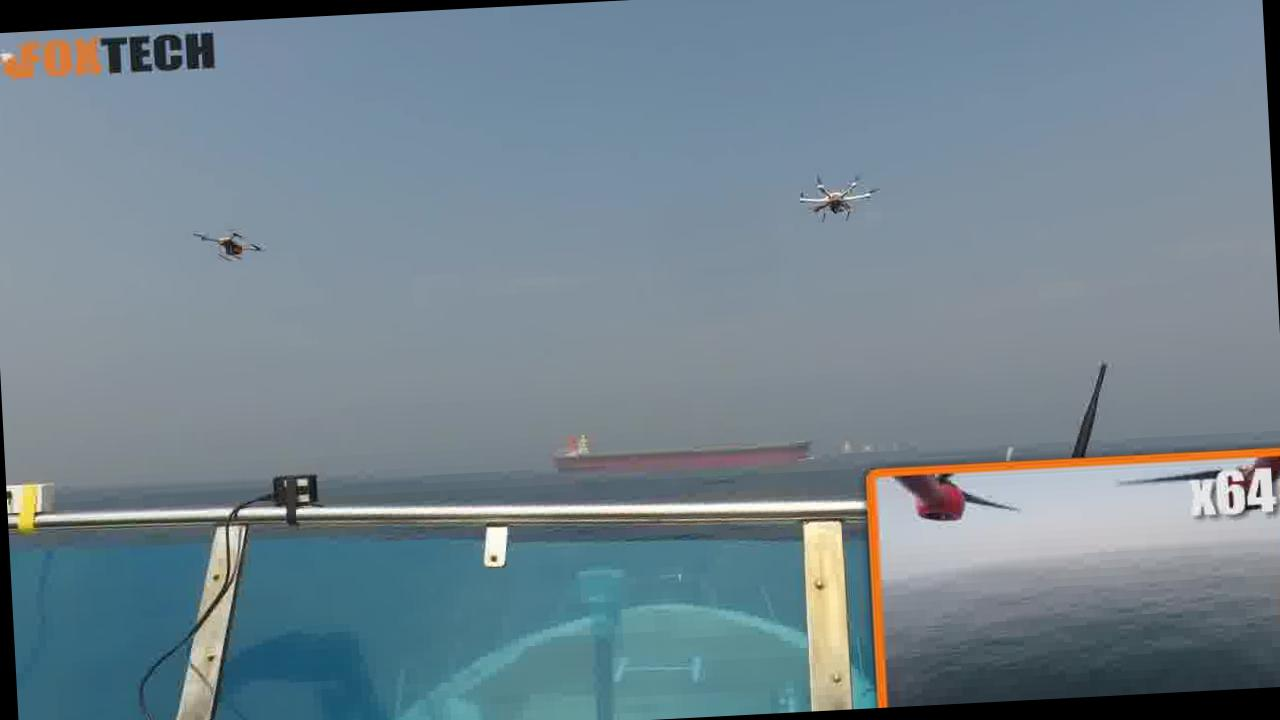drone: (786, 150, 890, 230), (187, 214, 267, 270)
